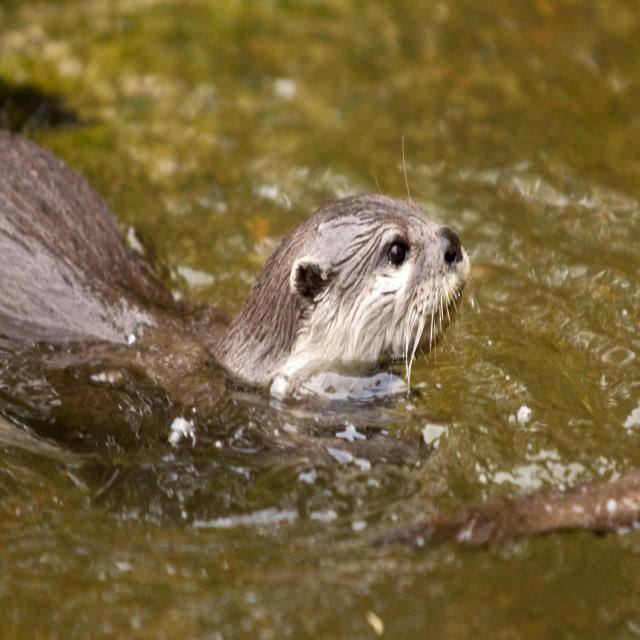otter: (203, 189, 468, 403)
